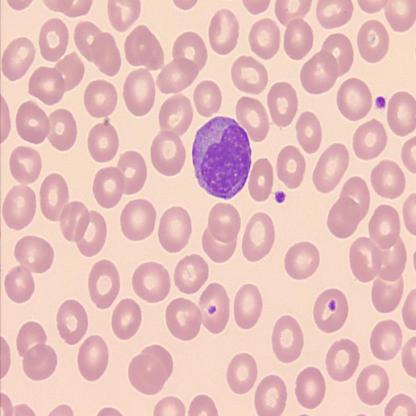Monocyte: (190, 114, 254, 201)
